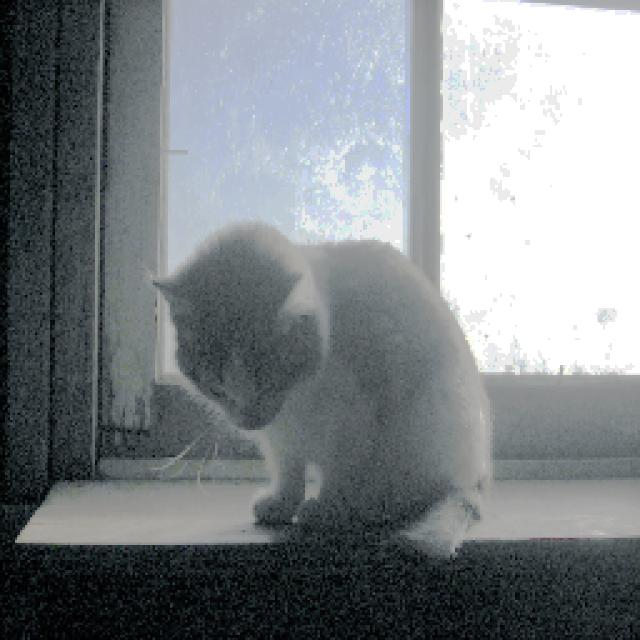cat: (148, 225, 494, 551)
